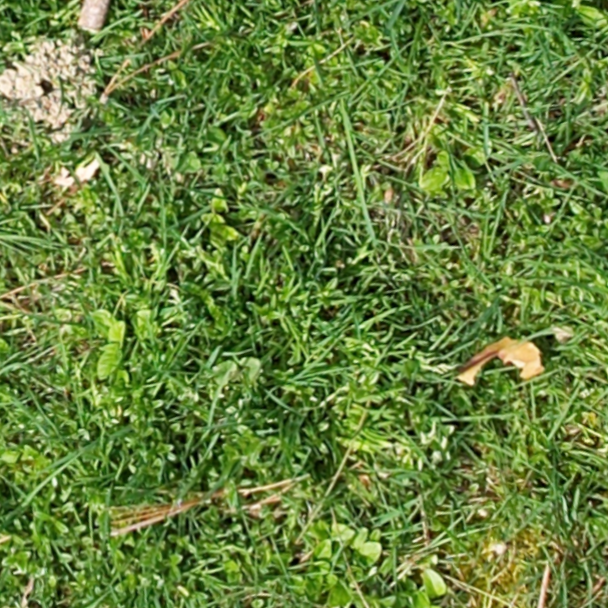nest: (1, 36, 101, 137)
